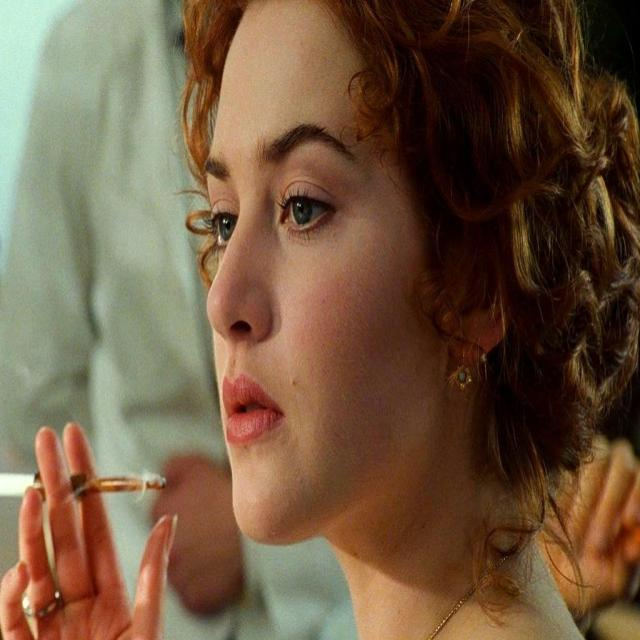smoking: (9, 2, 512, 550)
